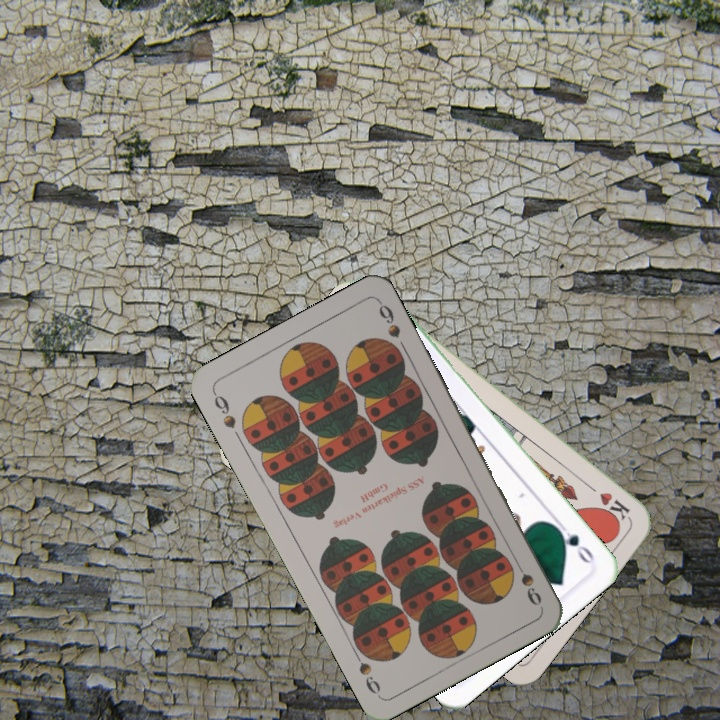GO: (550, 517, 597, 567)
HK: (580, 478, 632, 523)
S9: (509, 554, 544, 609), (208, 387, 239, 431)
